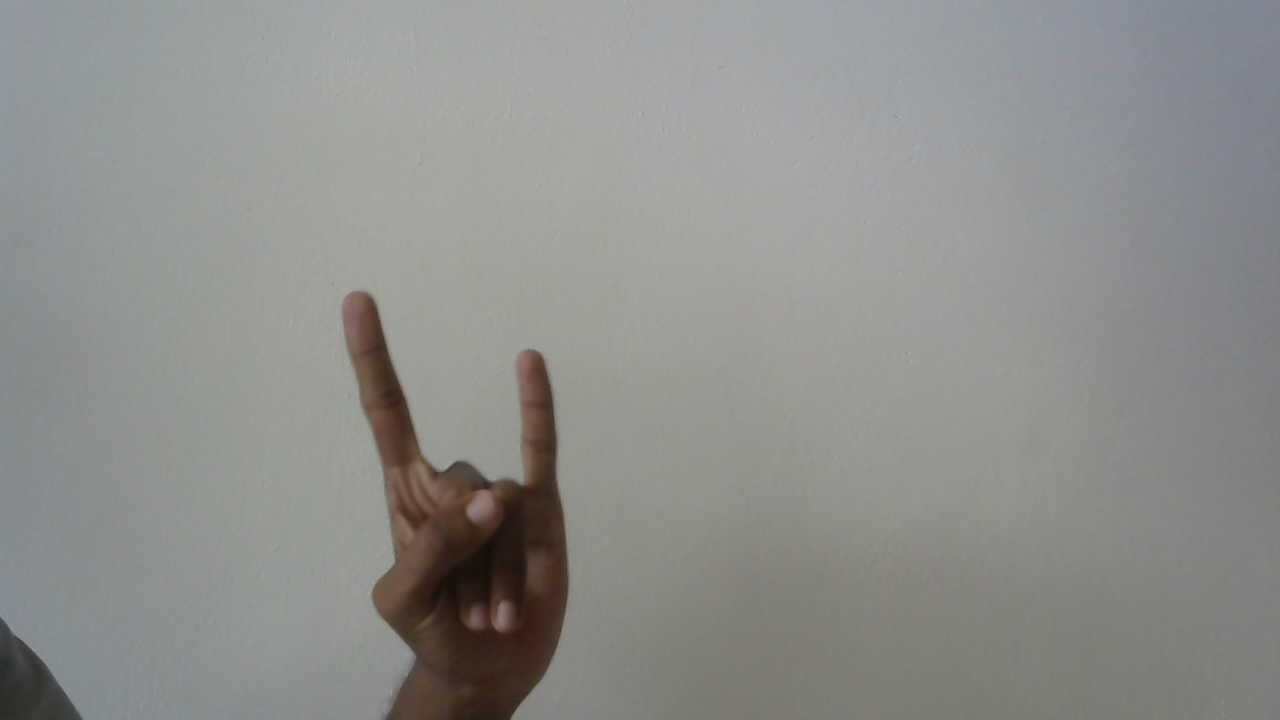iloveyou: (333, 280, 586, 700)
